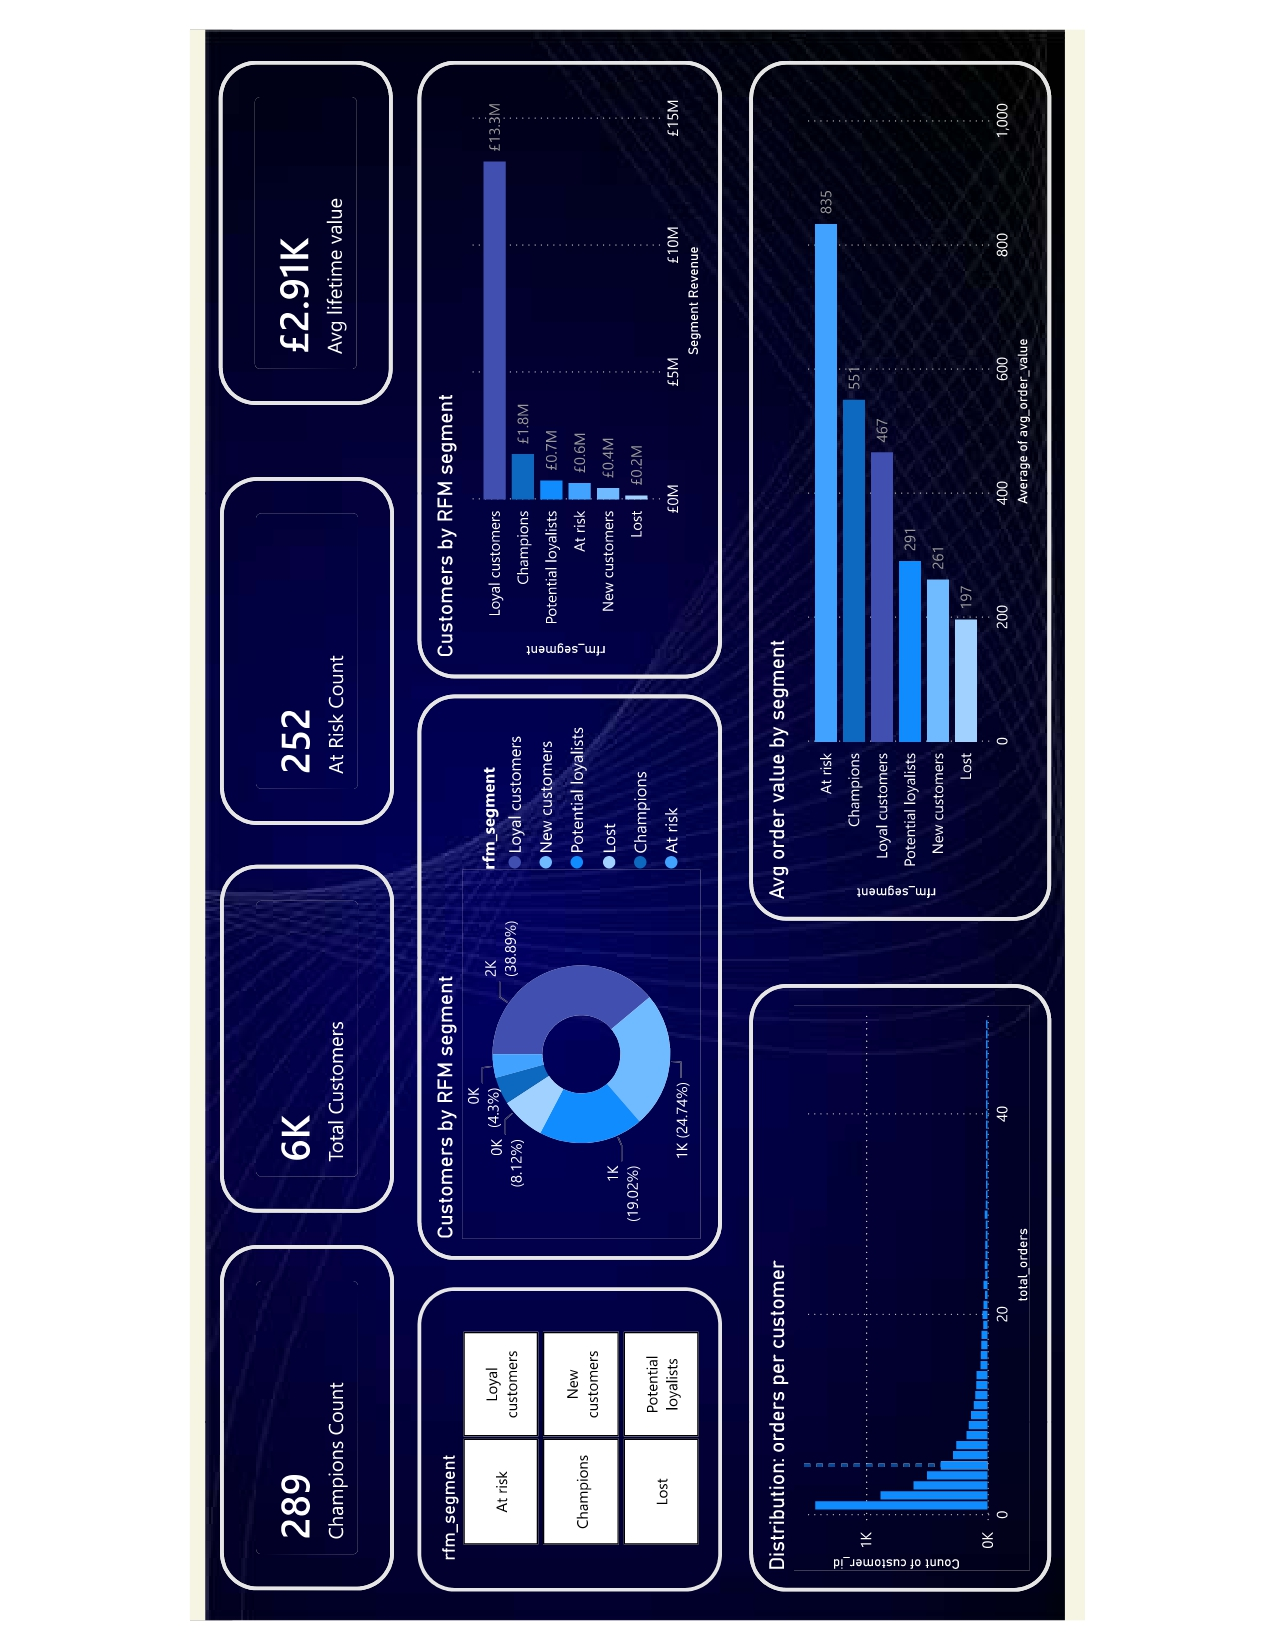

The page's visual inventory and layout, read from the dashboard file:
{"tool":"powerbi","page":{"name":"Customer Analytics","canvas":[1280,720],"ordinal":1},"visuals":[{"type":"cardVisual","fields":{"Data":["_Measures.Champions Count"]},"box":[24,24,278,140],"z":0},{"type":"cardVisual","fields":{"Data":["_Measures.At Risk Count"]},"box":[640,24,280,140],"z":1000},{"type":"cardVisual","fields":{"Data":["_Measures.Avg Customer LTV"]},"box":[978.3,23.3,276.7,140],"z":2000},{"type":"cardVisual","fields":{"Data":["_Measures.Total Customers"]},"box":[328,24,280,140],"z":3000},{"type":"donutChart","title":"Customers by RFM segment","fields":{"Category":["Customer Segments.rfm_segment"],"Y":["_Measures.Total Customers"]},"box":[290,183.3,455,245],"z":4000},{"type":"clusteredBarChart","title":"Customers by RFM segment","fields":{"Category":["Customer Segments.rfm_segment"],"Y":["_Measures.Segment Revenue"]},"box":[758.3,183.3,496.7,245],"z":5000},{"type":"clusteredColumnChart","title":"Distribution: orders per customer","fields":{"Category":["Customer Segments.total_orders"],"Y":["CountNonNull(Customer Segments.customer_id)"]},"box":[23.3,450,488.3,243.3],"z":6000},{"type":"clusteredBarChart","title":"Avg order value by segment","fields":{"Category":["Customer Segments.rfm_segment"],"Y":["Avg(Customer Segments.avg_order_value)"]},"box":[563.3,450,691.7,243.3],"z":7000},{"type":"slicer","fields":{"Values":["Customer Segments.rfm_segment"]},"box":[23.3,183.3,245,245],"z":8000}]}

Visuals, with their boxes on the page's 1280x720 design canvas (x1, y1, x2, y2). These are canvas units, not pixel positions in the 1275x1650 screenshot, which may show the page scaled, cropped or inside an application window:
cardVisual - _Measures.Champions Count: (left=24, top=24, right=302, bottom=164)
cardVisual - _Measures.At Risk Count: (left=640, top=24, right=920, bottom=164)
cardVisual - _Measures.Avg Customer LTV: (left=978, top=23, right=1255, bottom=163)
cardVisual - _Measures.Total Customers: (left=328, top=24, right=608, bottom=164)
"Customers by RFM segment" donutChart: (left=290, top=183, right=745, bottom=428)
"Customers by RFM segment" clusteredBarChart: (left=758, top=183, right=1255, bottom=428)
"Distribution: orders per customer" clusteredColumnChart: (left=23, top=450, right=512, bottom=693)
"Avg order value by segment" clusteredBarChart: (left=563, top=450, right=1255, bottom=693)
slicer - Customer Segments.rfm_segment: (left=23, top=183, right=268, bottom=428)
